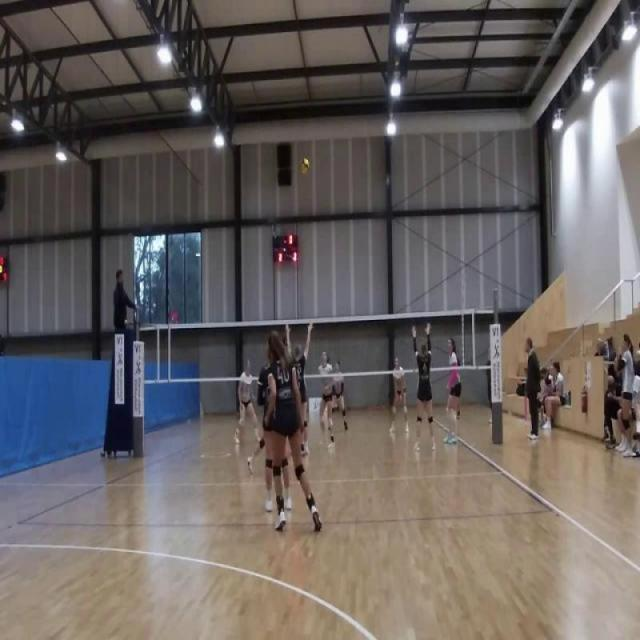volleyball: (298, 156, 312, 177)
